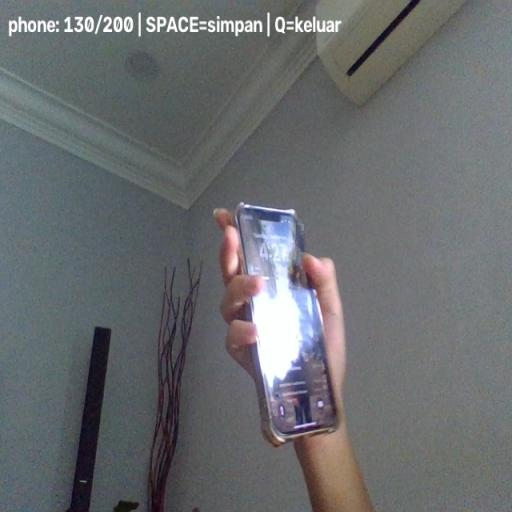Phone: (233, 203, 340, 448)
